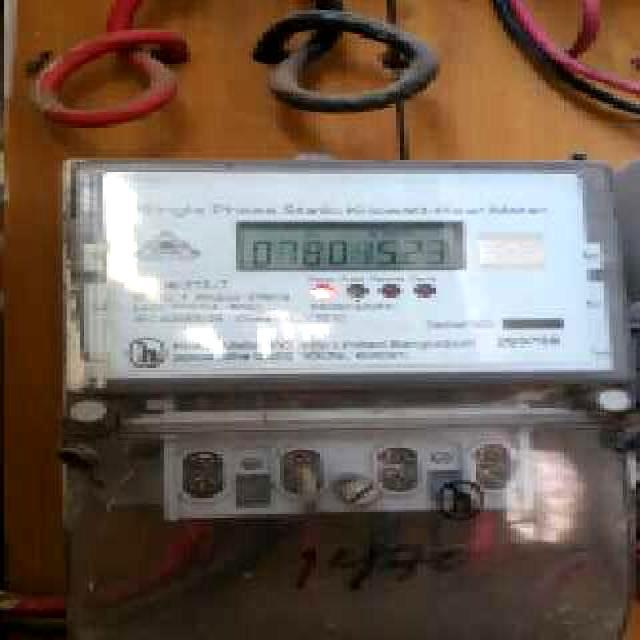LCD: (232, 218, 468, 268)
